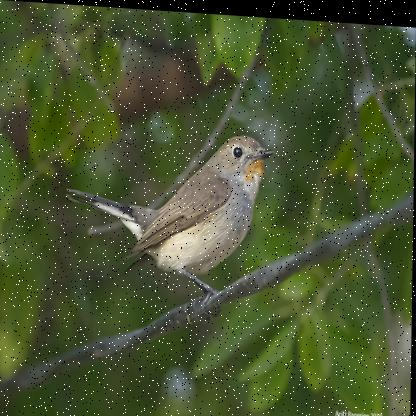Burung: (69, 123, 275, 317)
